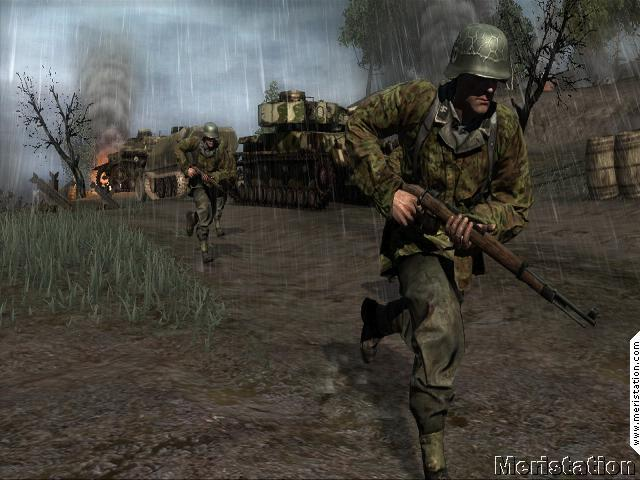larga: (399, 183, 599, 328), (188, 163, 224, 192)
